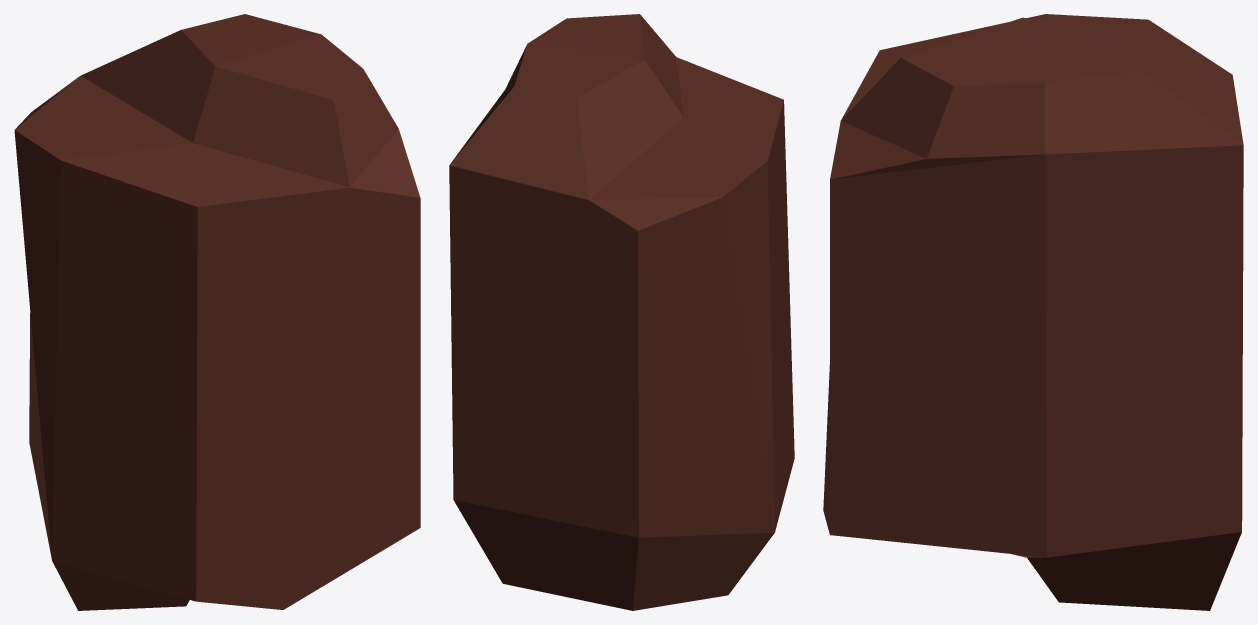
Rendered from entity104258.glb.
3 renders of one model, left to right at view 1: azimuth 30°, elevation 25°; view 2: azimuth 150°, elevation 25°; view 3: azimuth 270°, elevation 25°, orthographic. The views are drawn at different scales.
Parts seen in each view (by area): view 1: node_SM_Env_Rock_06 (36); view 2: node_SM_Env_Rock_06 (36); view 3: node_SM_Env_Rock_06 (36).
Part boxes in pixels (x1,y1,x2,y2): node_SM_Env_Rock_06 (36): (14, 14, 420, 610); node_SM_Env_Rock_06 (36): (449, 14, 794, 610); node_SM_Env_Rock_06 (36): (823, 14, 1243, 610).
Bounding box in the file's own units: 4.55 × 7.96 × 5.12.
Materials: 1 (1 with a texture image).
